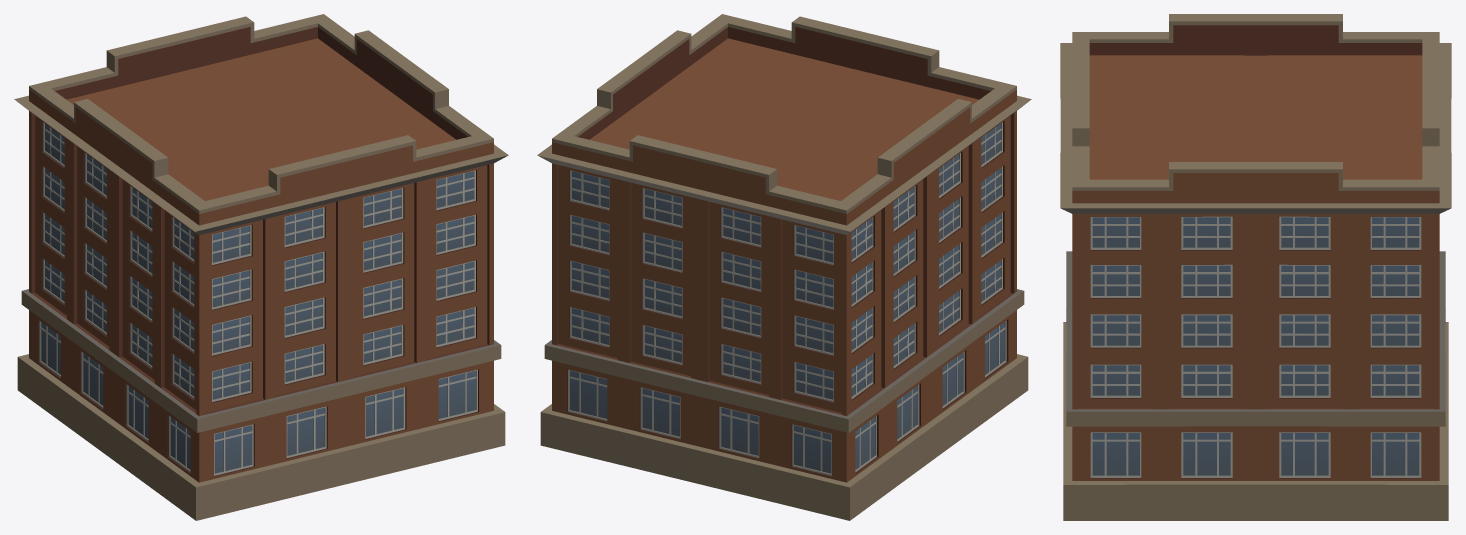
3 renders of one model, left to right at view 1: azimuth 30°, elevation 25°; view 2: azimuth 150°, elevation 25°; view 3: azimuth 270°, elevation 25°, orthographic. The views are drawn at different scales.
Visible parts, largest first — view 1: base.252; view 2: base.252; view 3: base.252.
Part boxes in pixels (left/top/right/bottom): base.252: left=14, top=14, right=508, bottom=520; base.252: left=537, top=14, right=1031, bottom=520; base.252: left=1060, top=14, right=1451, bottom=520.
Size of the model in its own units: 0.5 by 0.4906 by 0.5.
